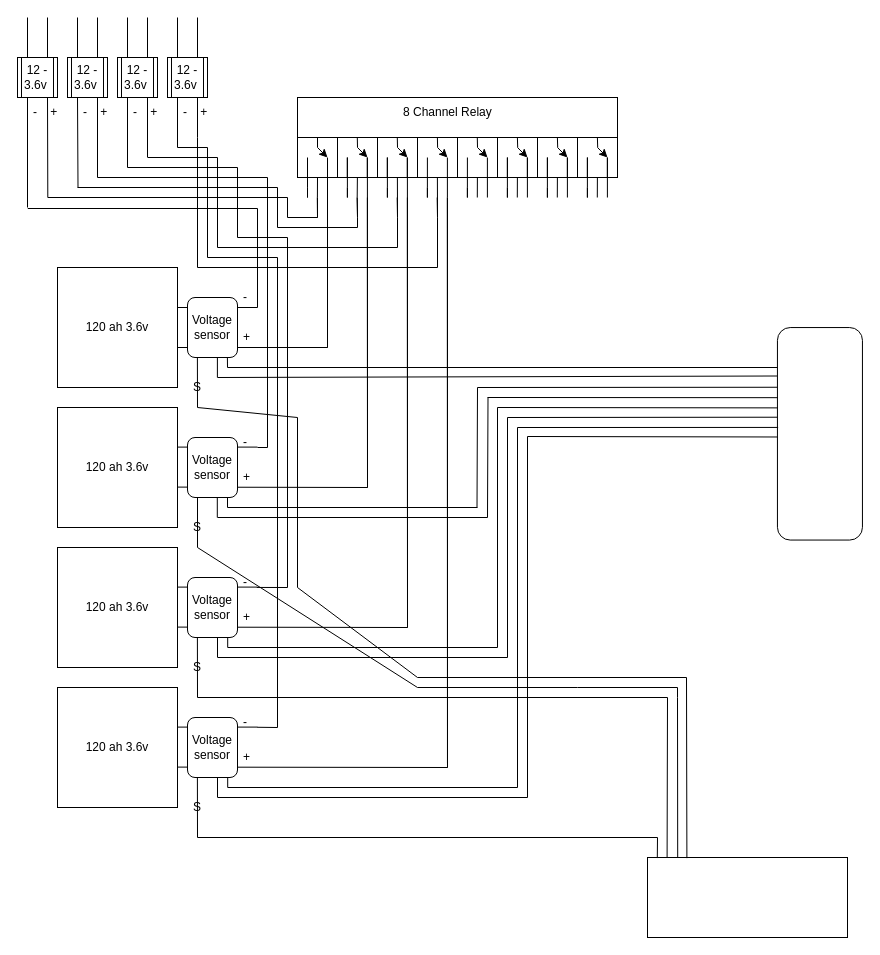
The diagram is 880 pixels wide and 955 high, and some of its shapes have lost their labels. Each missing label, with the box of its shape:
Breadboard: (776, 327, 862, 540)
ESP32: (646, 856, 848, 938)
